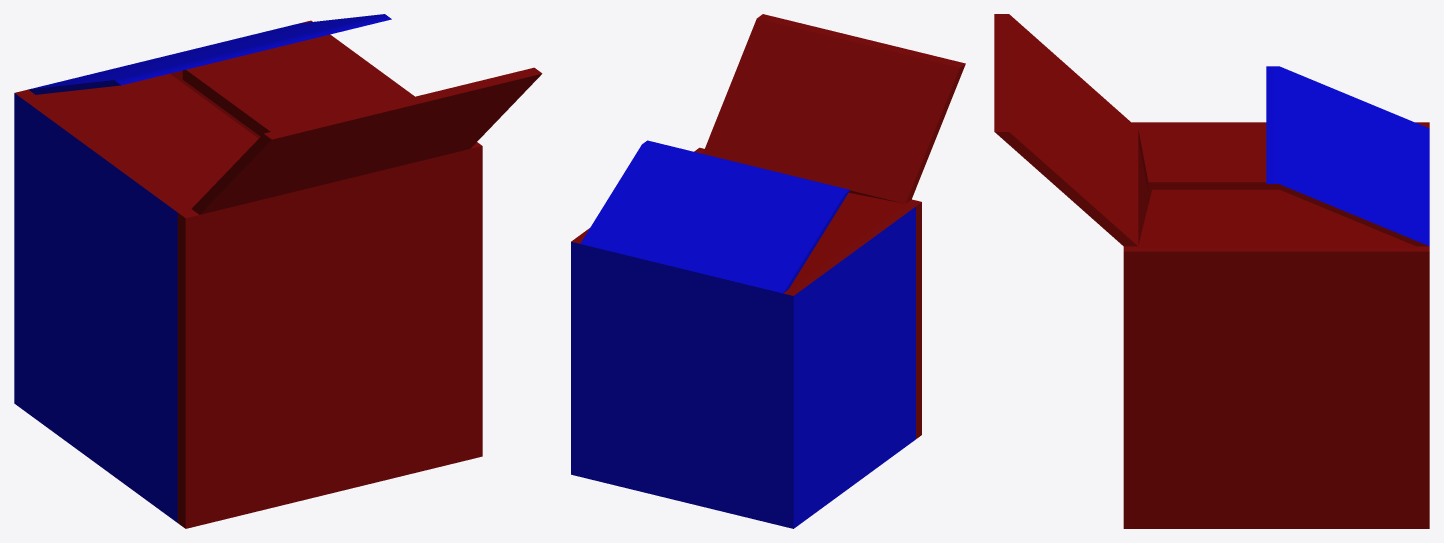
The model's file is MayaY.fbx.
3 views of the same model, side by side, from view 1: azimuth 30°, elevation 25°; view 2: azimuth 150°, elevation 25°; view 3: azimuth 270°, elevation 25° (orthographic). The views are drawn at different scales.
Visible parts, largest first — view 1: pCube1; view 2: pCube1; view 3: pCube1.
Part boxes in pixels (left/top/right/bottom): pCube1: left=14, top=14, right=542, bottom=528; pCube1: left=571, top=14, right=965, bottom=528; pCube1: left=994, top=14, right=1429, bottom=528.
Size of the model in its own units: 3.5 by 4.95 by 4.98.
